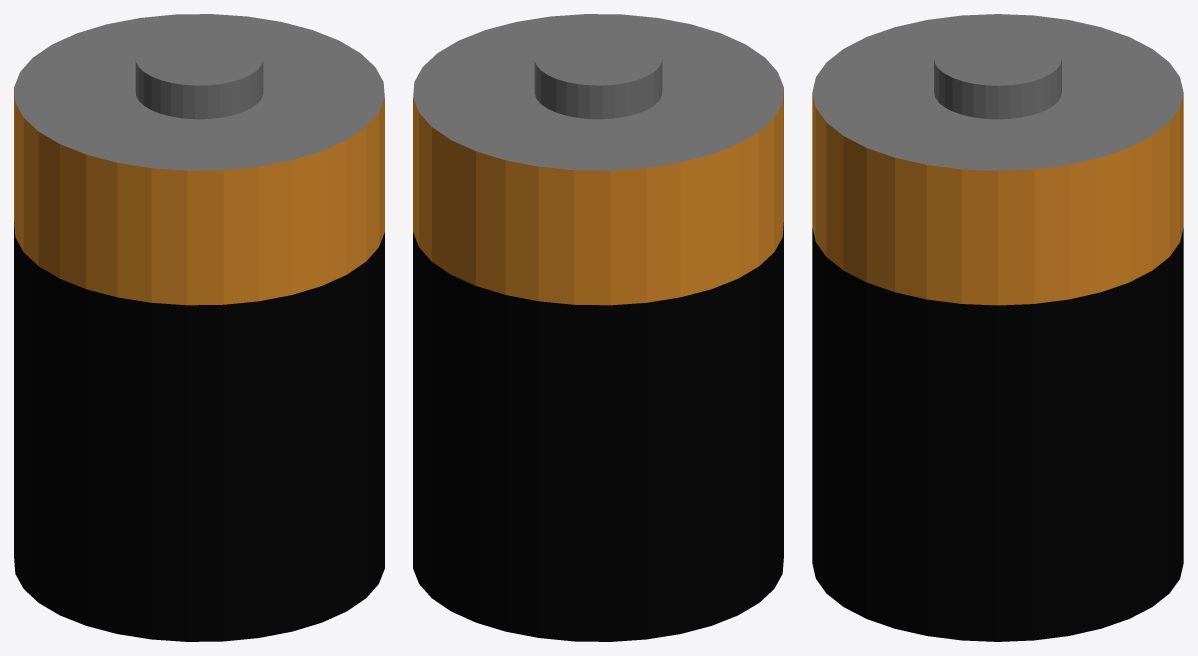
Rendered from Batt.fbx.
3 renders of one model, left to right at view 1: azimuth 30°, elevation 25°; view 2: azimuth 150°, elevation 25°; view 3: azimuth 270°, elevation 25°, orthographic.
Parts seen in each view (by area): view 1: Cylinder; view 2: Cylinder; view 3: Cylinder.
Part boxes in pixels (left/top/right/bottom): Cylinder: left=14, top=14, right=384, bottom=641; Cylinder: left=413, top=14, right=783, bottom=641; Cylinder: left=812, top=14, right=1183, bottom=641.
Size of the model in its own units: 300 by 200 by 200.
